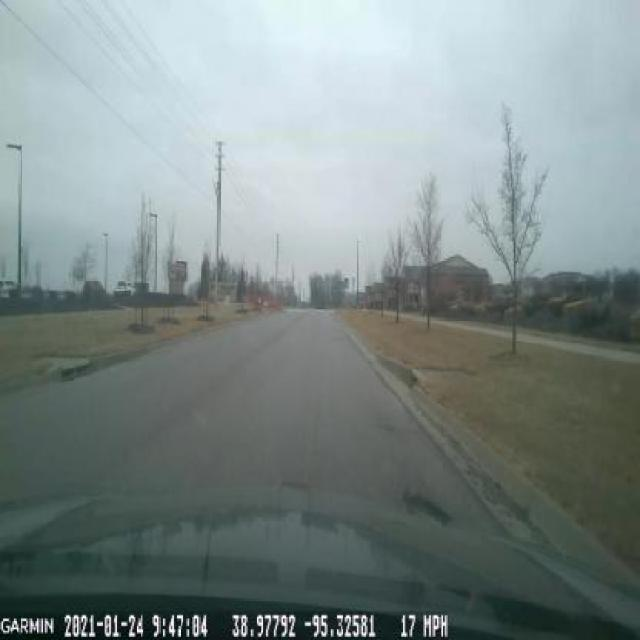pothole: (395, 483, 458, 536)
